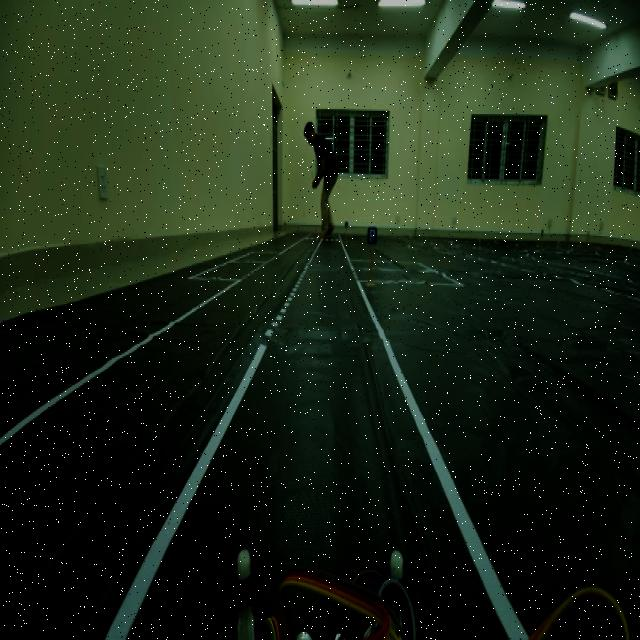parking: (364, 218, 378, 252)
